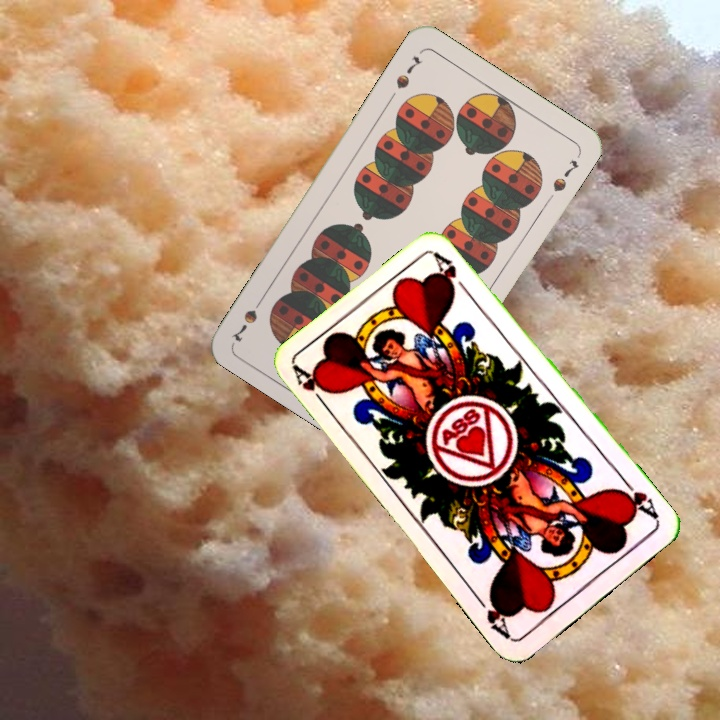HA: (611, 475, 662, 524), (289, 363, 333, 414)
S7: (391, 52, 423, 92)
